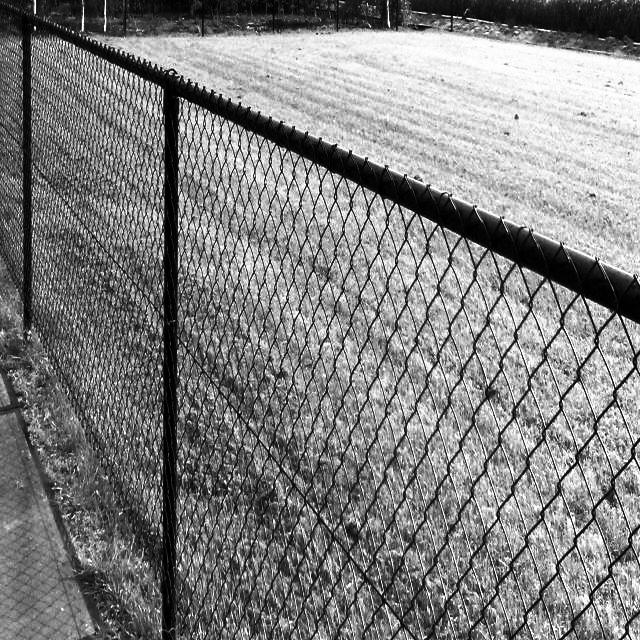fences: (186, 98, 636, 640), (7, 14, 162, 628)
